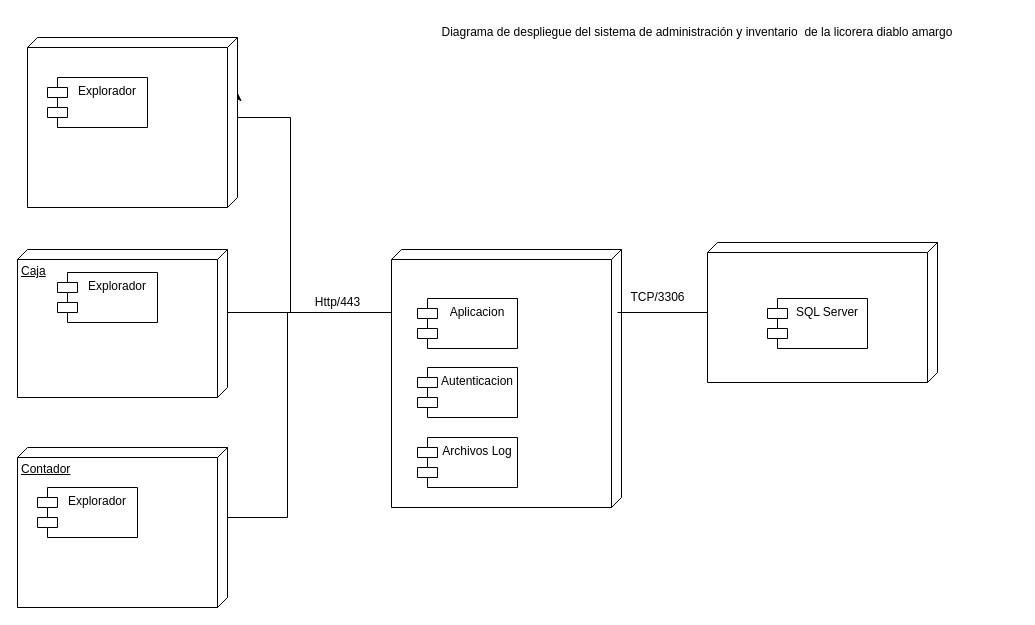
The diagram is 1035 pixels wide and 625 high, and some of its shapes have lost their labels. Here are the shapes that lost their labels. From the top down, the box of each, then its label:
(26, 36, 238, 208): Bodega
(706, 242, 938, 382): Base de datos
(390, 248, 622, 508): Servidor aplicaciones
